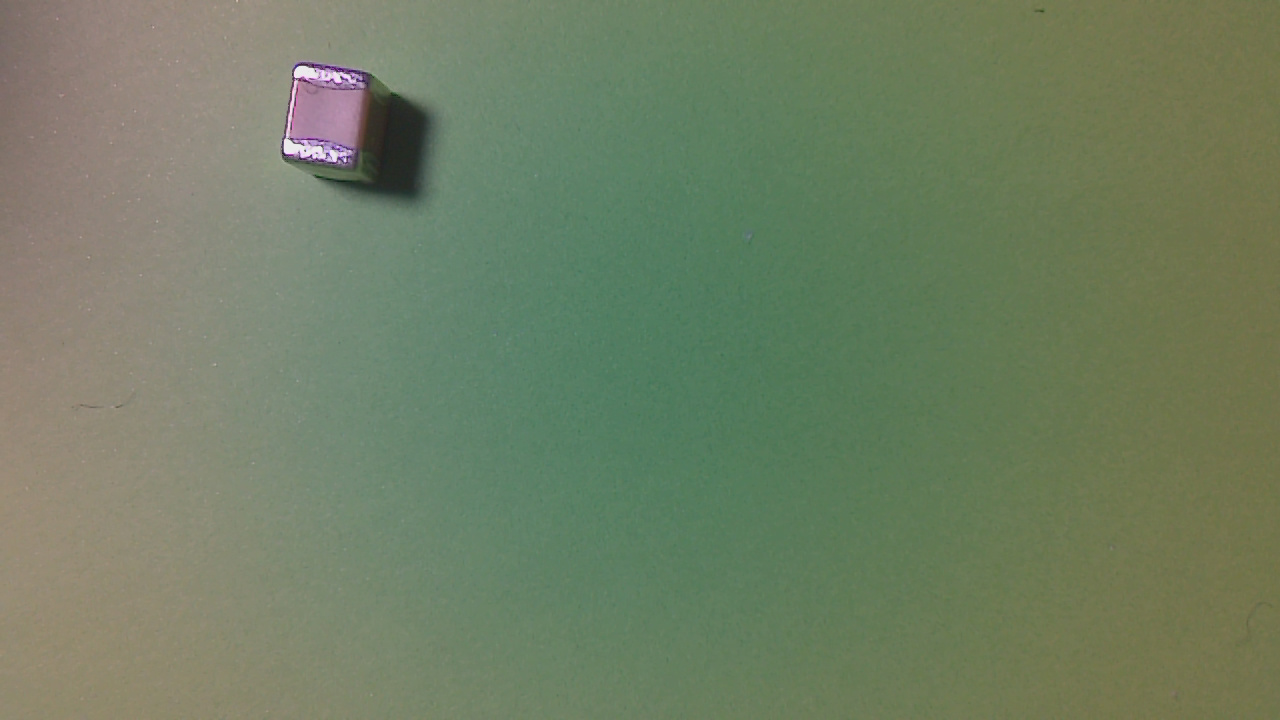Condensator: (284, 63, 384, 179)
